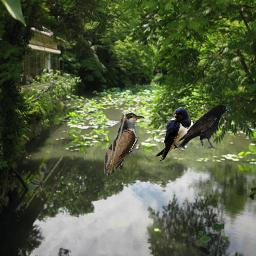Crow: (177, 103, 232, 150)
Cuckoo: (104, 113, 155, 177)
Swallow: (155, 107, 194, 162)
